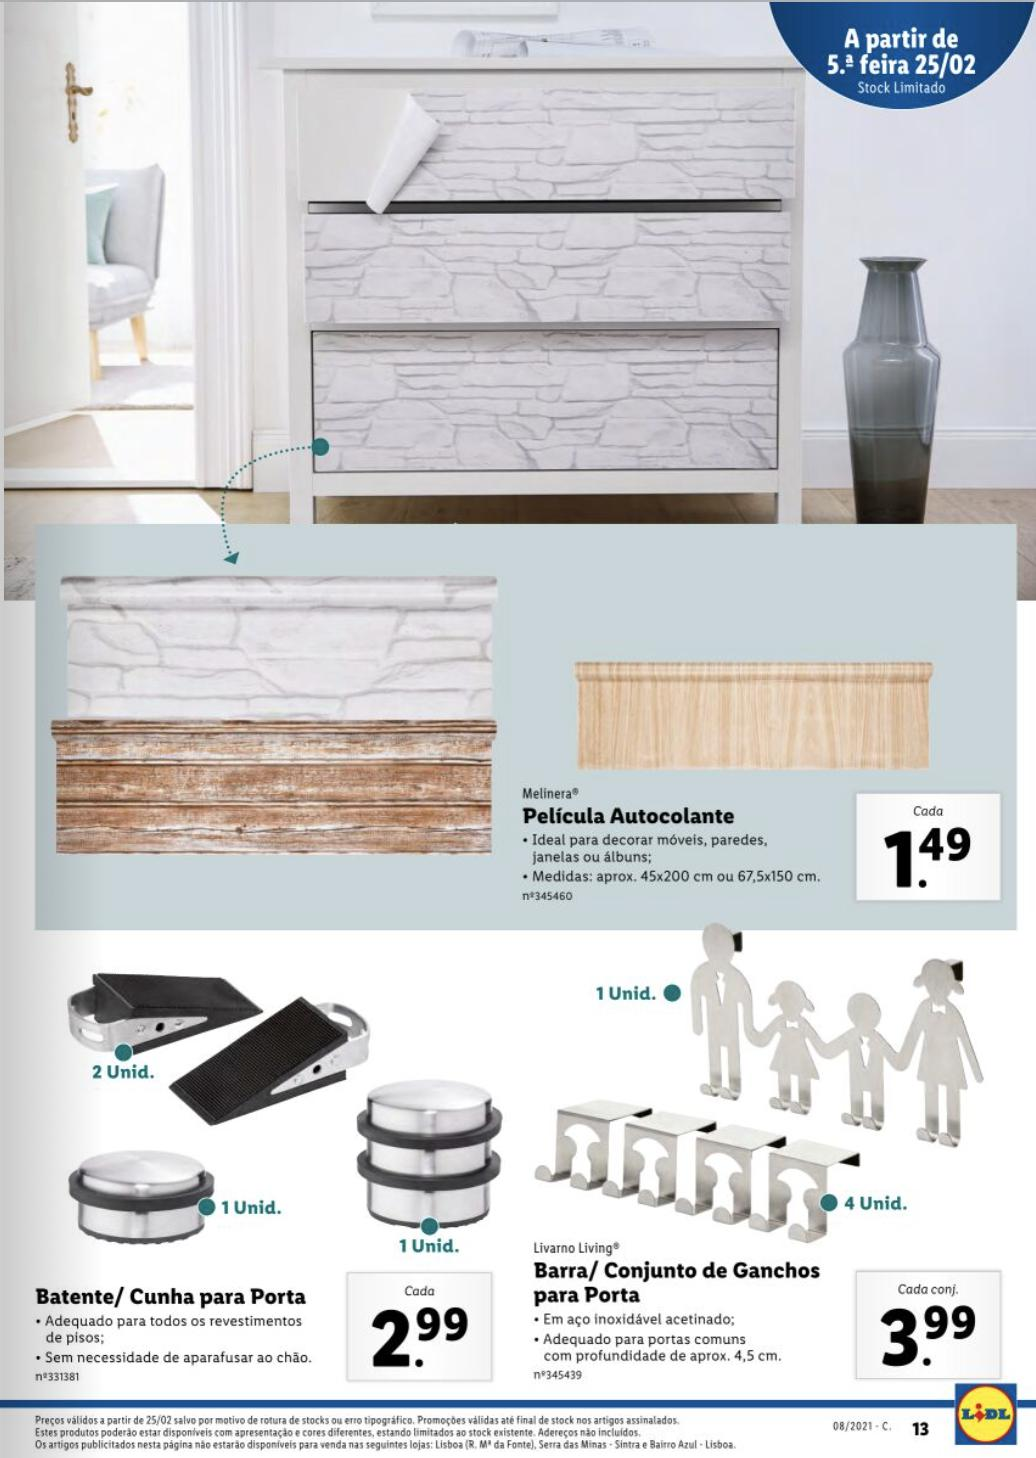name: (530, 1259, 827, 1310), (25, 1281, 316, 1317), (522, 804, 743, 833)
price: (870, 1296, 981, 1375), (368, 1303, 478, 1375), (879, 823, 981, 897)
product: (522, 923, 1014, 1383), (8, 939, 494, 1401), (503, 632, 999, 926)
